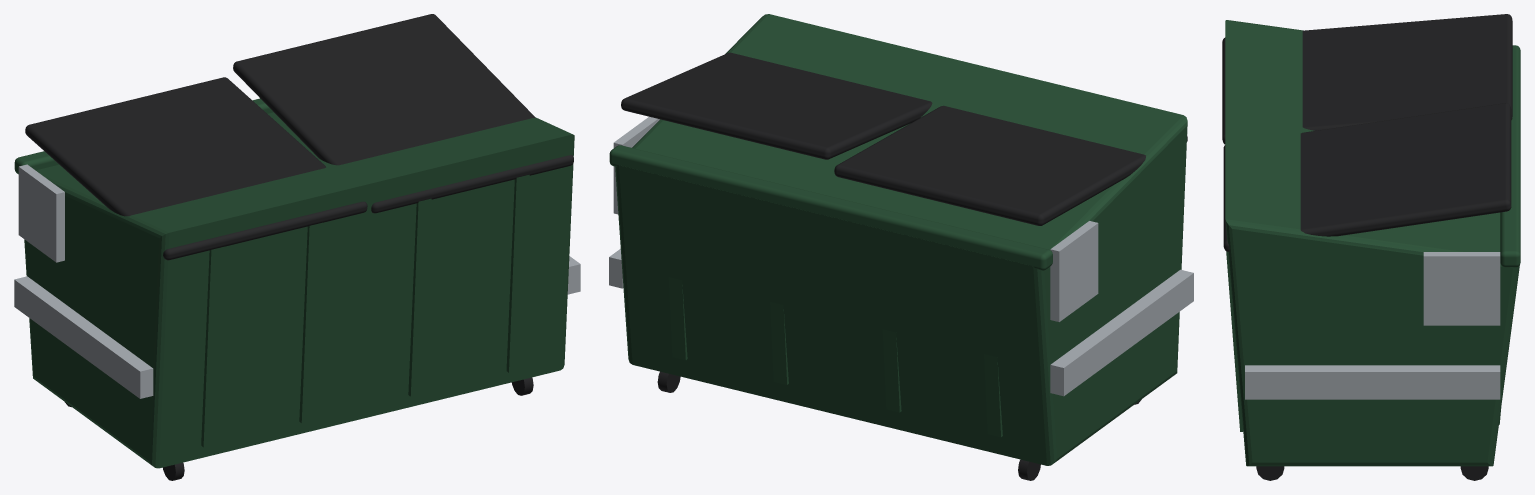
The model's file is DUMPSTER.glb.
The picture shows the model from 3 angles, left to right: view 1: azimuth 30°, elevation 25°; view 2: azimuth 150°, elevation 25°; view 3: azimuth 270°, elevation 25°; orthographic projection. The views are drawn at different scales.
Parts seen in each view (by area): view 1: paint_0, tread_1, steel_2; view 2: paint_0, tread_1, steel_2; view 3: paint_0, tread_1, steel_2.
Boxes of the visible parts, x1,y1,x2,y2 form: paint_0: (14,98,574,468); tread_1: (25,14,573,480); steel_2: (14,164,580,398); paint_0: (609,14,1187,465); tread_1: (621,52,1187,480); steel_2: (609,116,1193,396); paint_0: (1225,20,1520,466); tread_1: (1222,14,1512,480); steel_2: (1245,252,1500,399).
Size of the model in its own units: 2.02 by 1.26 by 1.17.
